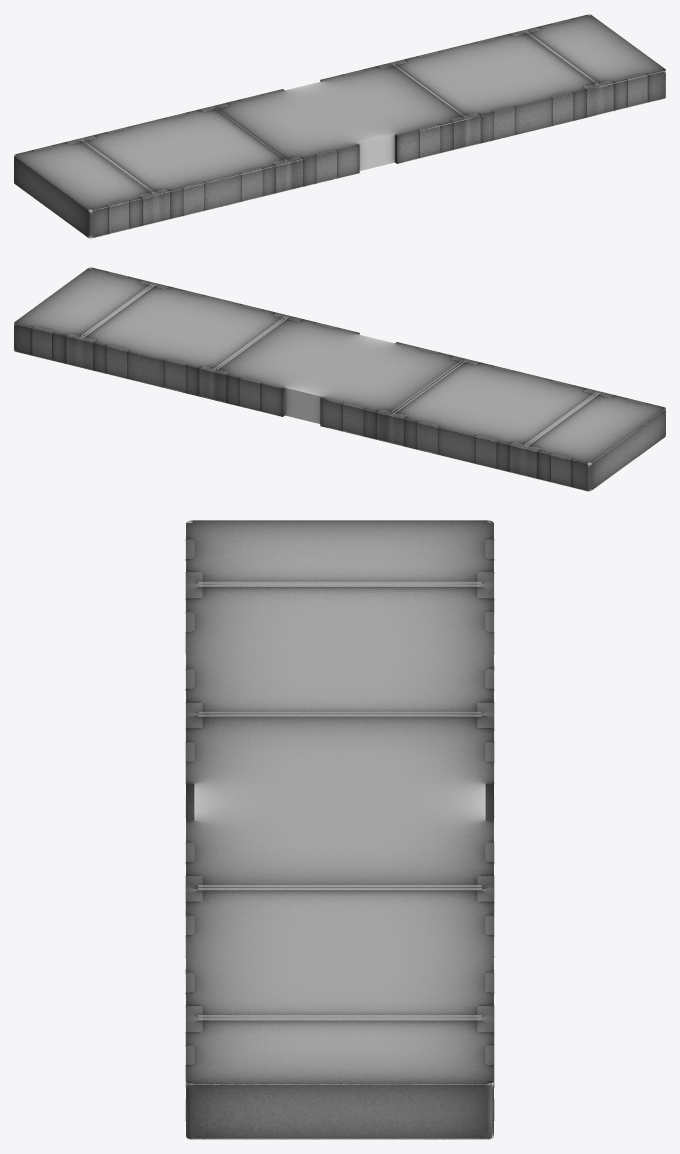
The model's file is central_test-interior.obj.
The picture shows the model from 3 angles, top to bottom: view 1: azimuth 30°, elevation 25°; view 2: azimuth 150°, elevation 25°; view 3: azimuth 270°, elevation 25°; orthographic projection. The views are drawn at different scales.
Visible parts, largest first — view 1: central_test-interior.obj; view 2: central_test-interior.obj; view 3: central_test-interior.obj.
Boxes of the visible parts, x1,y1,x2,y2 form: central_test-interior.obj: [14, 14, 665, 238]; central_test-interior.obj: [14, 267, 665, 491]; central_test-interior.obj: [185, 520, 494, 1139].
Bounding box in the file's own units: 130 × 6.25 × 30.1.
